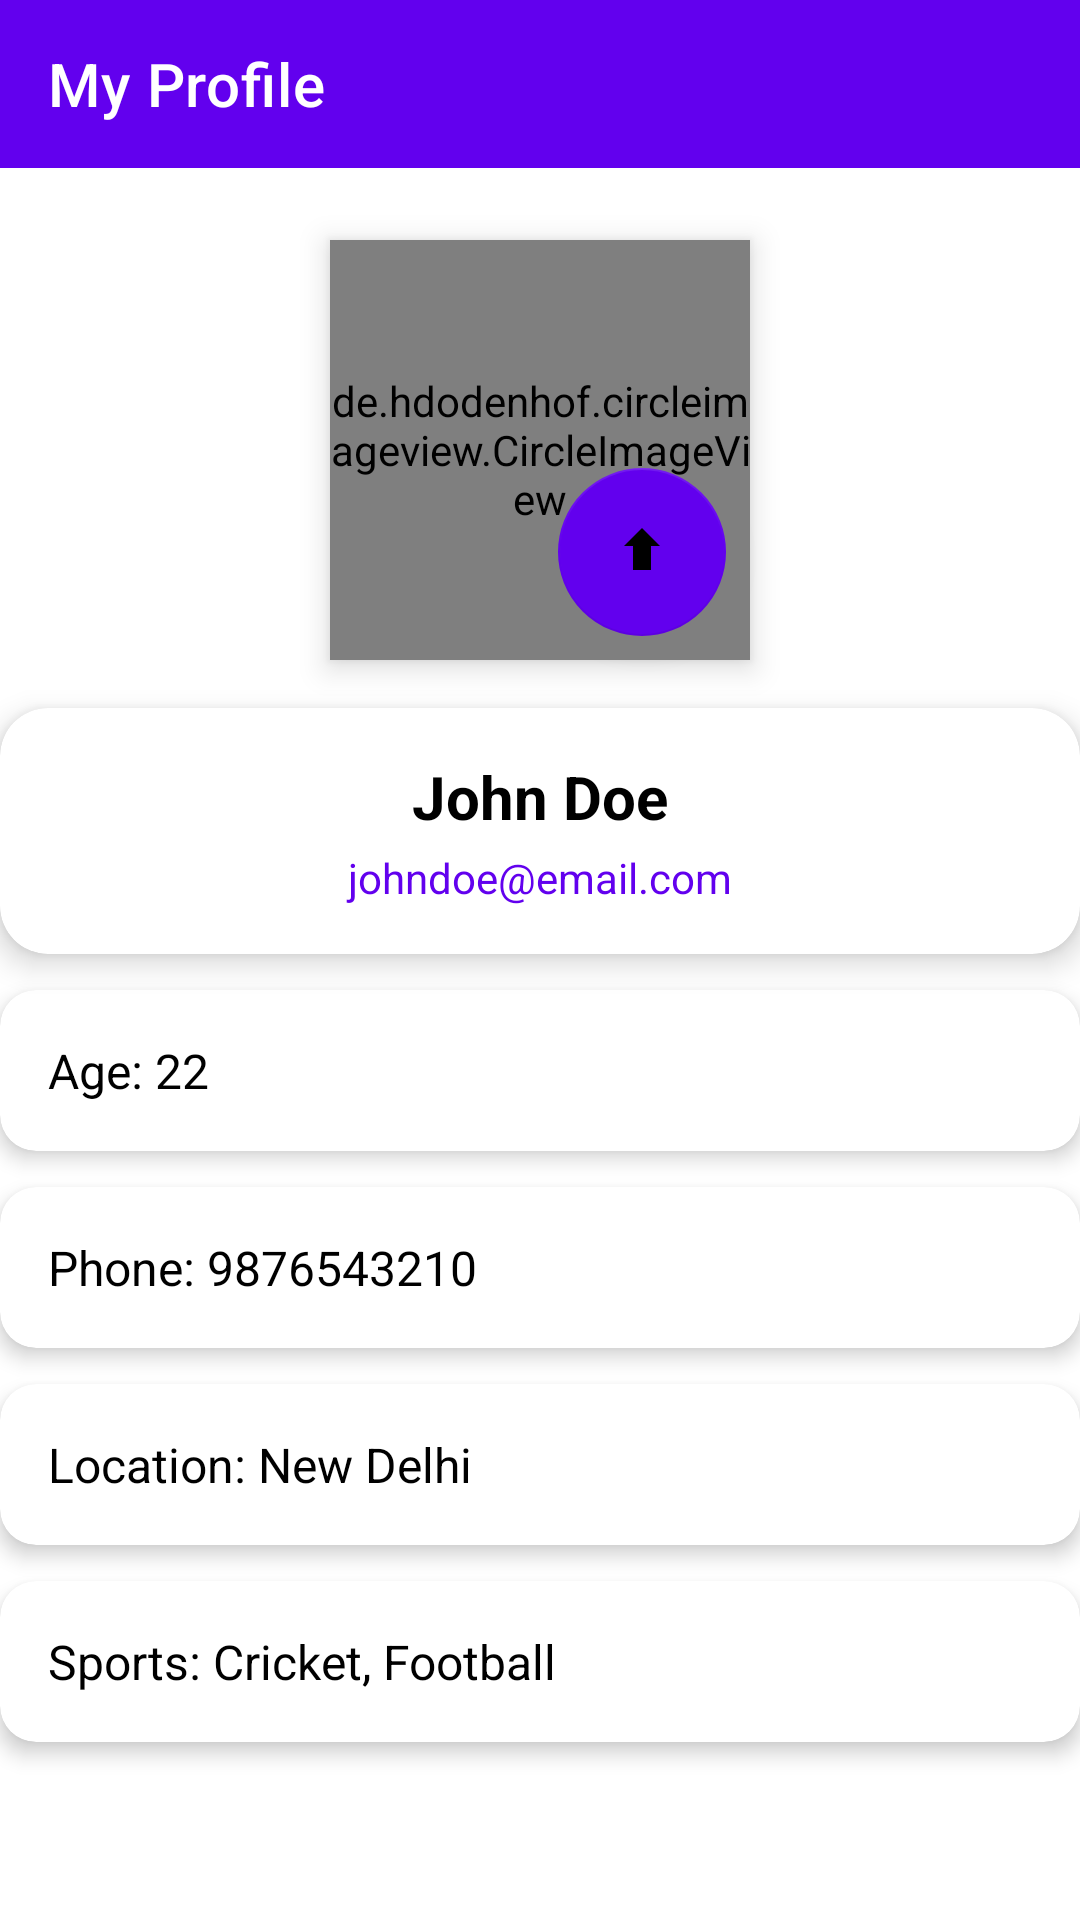

Where icons sit on this 1080px x 1920px app screen, as box(x1, y1, x2, y2):
Upload Photo: box(558, 468, 726, 636)
